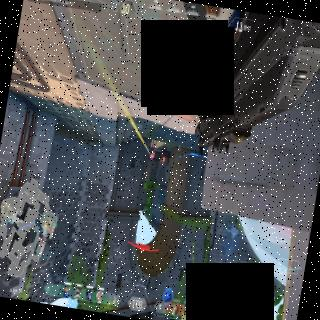ENEMY-BODY: (148, 140, 158, 162), (160, 145, 168, 165)
ENEMY-HEAD: (150, 156, 152, 162), (162, 160, 164, 164)
